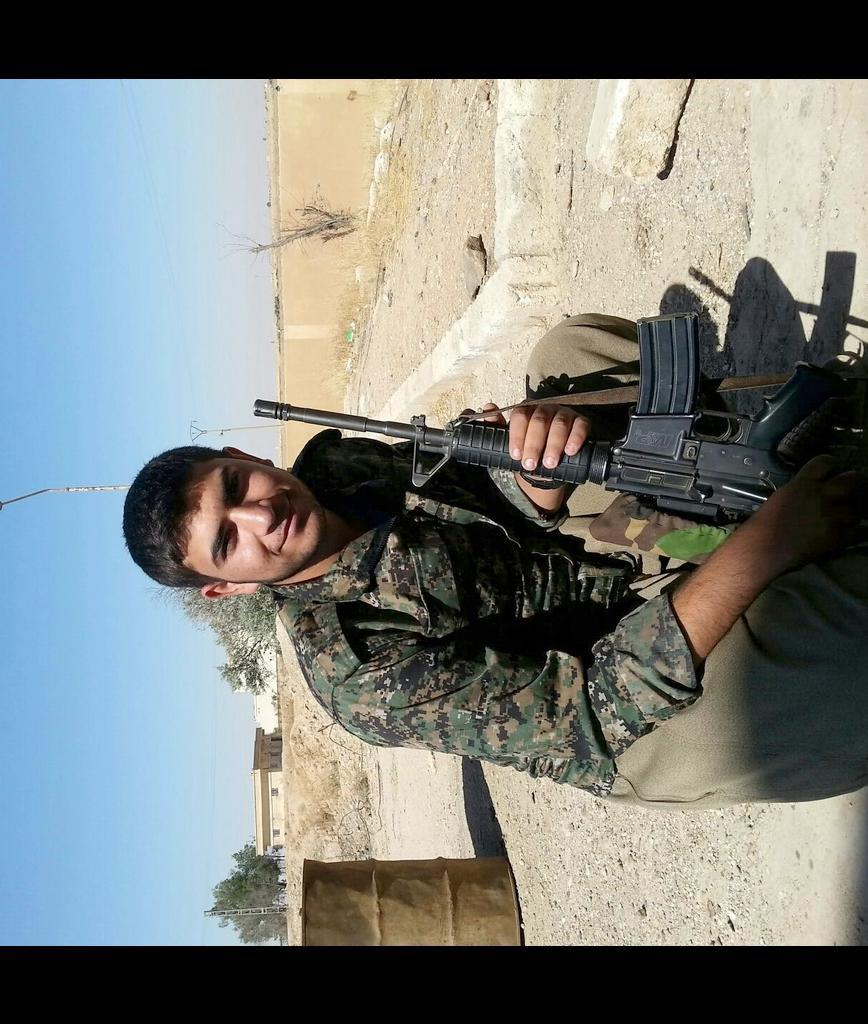gun: (250, 316, 848, 518)
